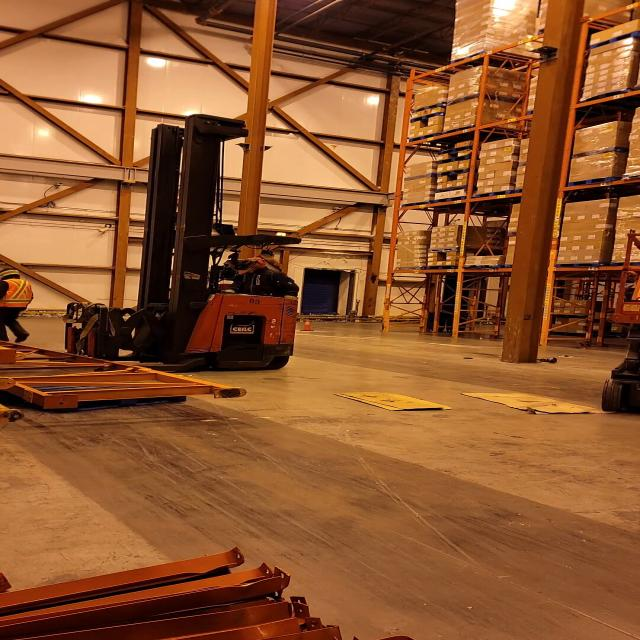forklift: (55, 122, 306, 375)
human: (227, 253, 303, 310), (0, 266, 44, 344)
objectofinterest: (3, 341, 250, 411), (456, 392, 614, 417), (326, 390, 457, 414)
